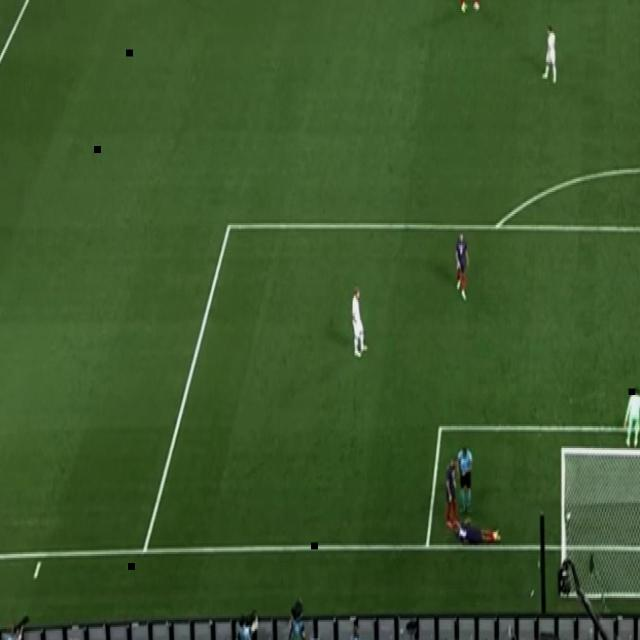player-white: (452, 516, 501, 546), (349, 286, 368, 360), (622, 384, 640, 452), (458, 443, 474, 517), (445, 452, 460, 530), (455, 232, 471, 300), (542, 24, 558, 86), (472, 0, 482, 11), (461, 0, 471, 11)
